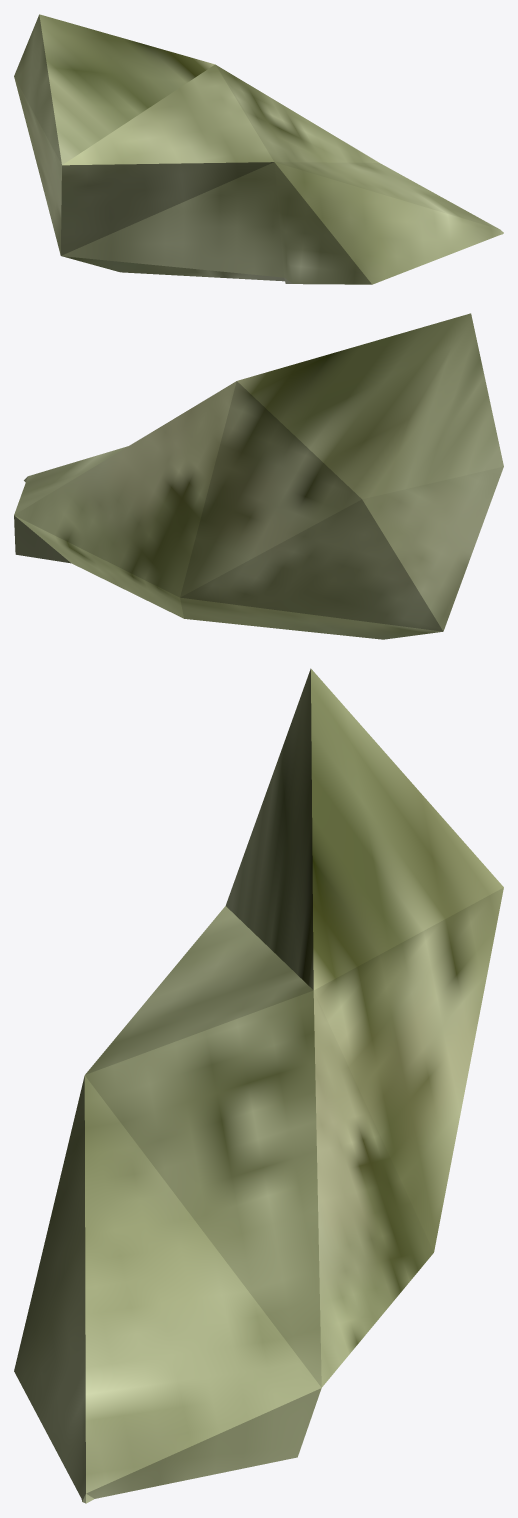
3 views of the same model, one above another, from view 1: azimuth 30°, elevation 25°; view 2: azimuth 150°, elevation 25°; view 3: azimuth 270°, elevation 25° (orthographic). The views are drawn at different scales.
Bounding box in the file's own units: 0.2932 × 0.1882 × 0.1725.
1 material, 1 textured.
